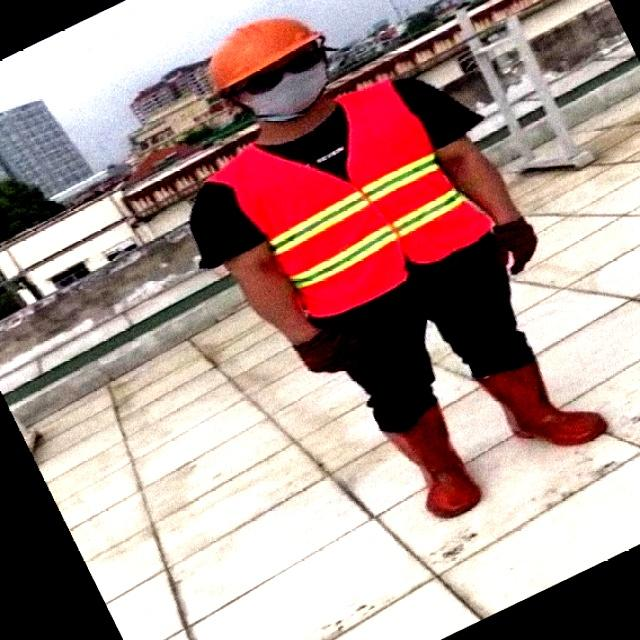helmet: (214, 16, 327, 96)
safety_vest: (198, 75, 510, 335)
